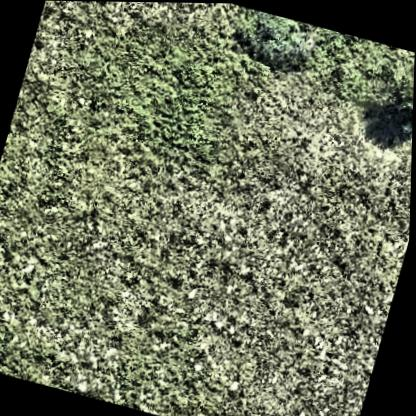tree-top: (349, 43, 415, 132)
